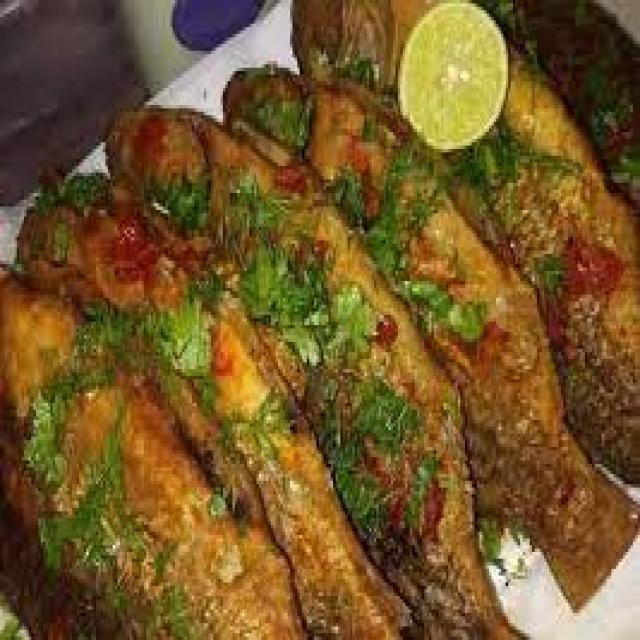Peixe: (2, 4, 636, 634)
